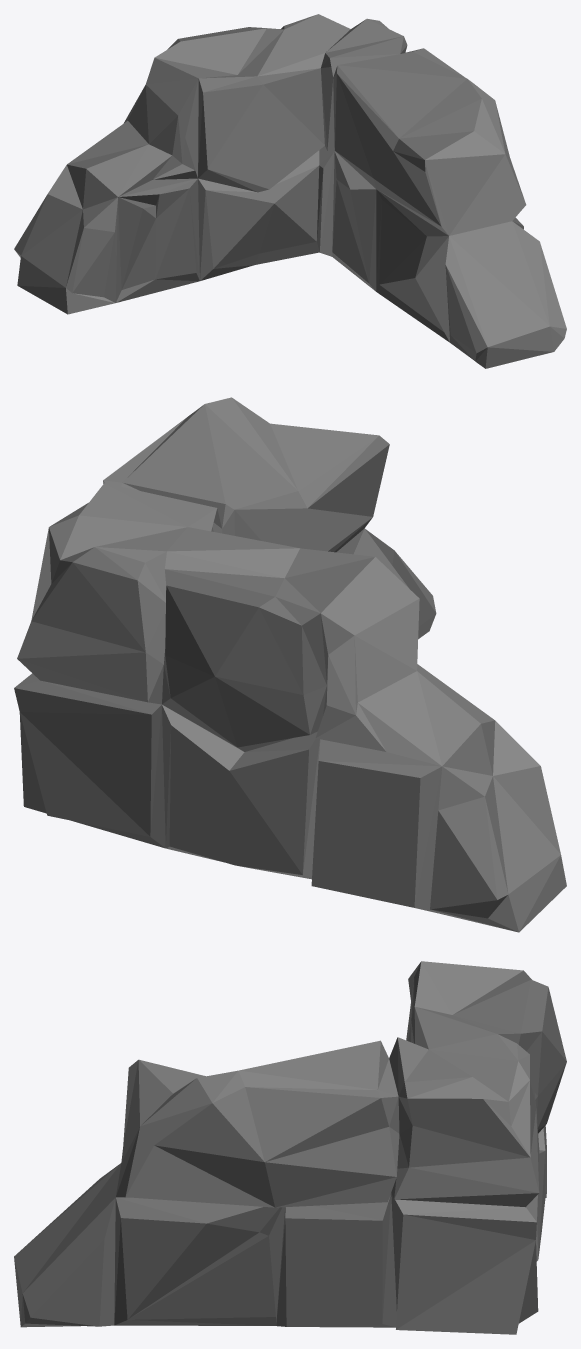
The model's file is _ruin_12.glb.
The picture shows the model from 3 angles, top to bottom: view 1: azimuth 30°, elevation 25°; view 2: azimuth 150°, elevation 25°; view 3: azimuth 270°, elevation 25°; orthographic projection. The views are drawn at different scales.
Visible parts, largest first — view 1: ruin_12; view 2: ruin_12; view 3: ruin_12.
Part boxes in pixels (x1,y1,x2,y2): ruin_12: (14, 14, 566, 368); ruin_12: (14, 397, 566, 932); ruin_12: (14, 961, 566, 1334).
Bounding box in the file's own units: 1.4 × 0.7663 × 1.49.
Materials: 1 (1 with a texture image).
